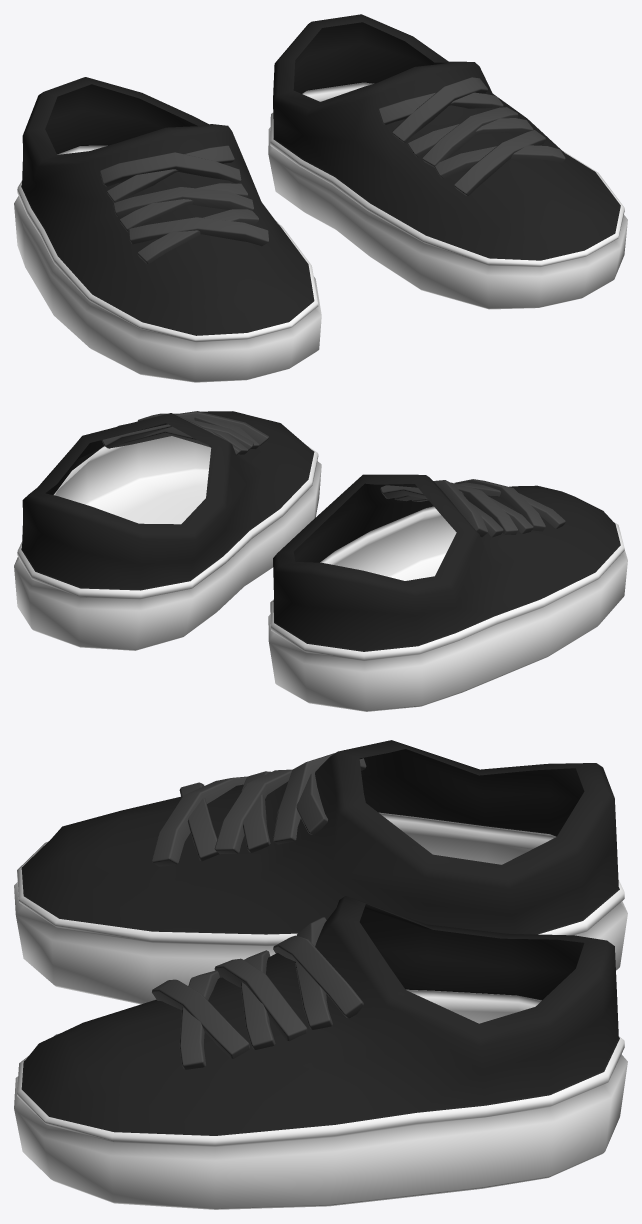
Rendered from Shoe_Sneaker_003.glb.
The picture shows the model from 3 angles, top to bottom: view 1: azimuth 30°, elevation 25°; view 2: azimuth 150°, elevation 25°; view 3: azimuth 270°, elevation 25°; orthographic projection. The views are drawn at different scales.
Visible parts, largest first — view 1: Shoe_Sneaker_003; view 2: Shoe_Sneaker_003; view 3: Shoe_Sneaker_003.
Boxes of the visible parts, x1=… form: Shoe_Sneaker_003: x1=14, y1=14, x2=627, y2=382; Shoe_Sneaker_003: x1=14, y1=411, x2=627, y2=711; Shoe_Sneaker_003: x1=14, y1=740, x2=627, y2=1209.
Bounding box in the file's own units: 0.4371 × 0.1301 × 0.3347.
1 material, 1 textured.
